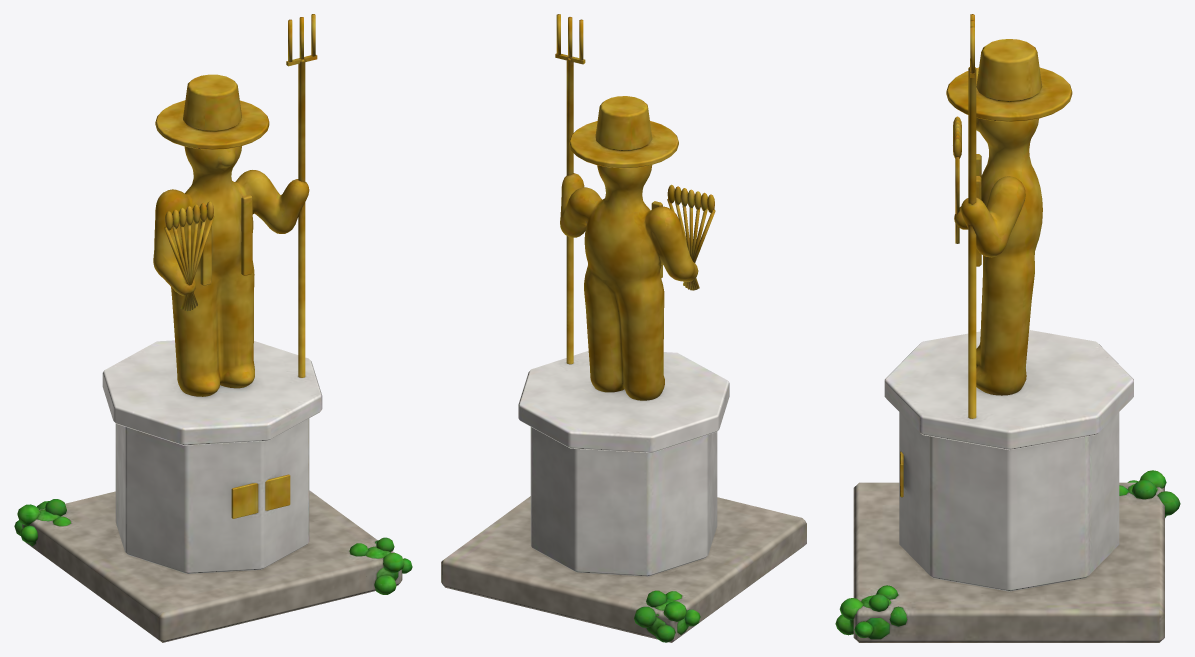
The model's file is golden_farmer.glb.
The picture shows the model from 3 angles, left to right: view 1: azimuth 30°, elevation 25°; view 2: azimuth 150°, elevation 25°; view 3: azimuth 270°, elevation 25°; orthographic projection. The views are drawn at different scales.
Parts seen in each view (by area): view 1: golden_farmer; view 2: golden_farmer; view 3: golden_farmer.
Part boxes in pixels (left/top/right/bottom): golden_farmer: left=14, top=14, right=412, bottom=642; golden_farmer: left=441, top=14, right=806, bottom=642; golden_farmer: left=835, top=14, right=1180, bottom=642.
Bounding box in the file's own units: 0.9236 × 1.79 × 0.9319.
1 material, 1 textured.
